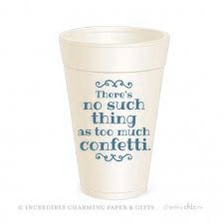paper_cup: (51, 20, 174, 203)
